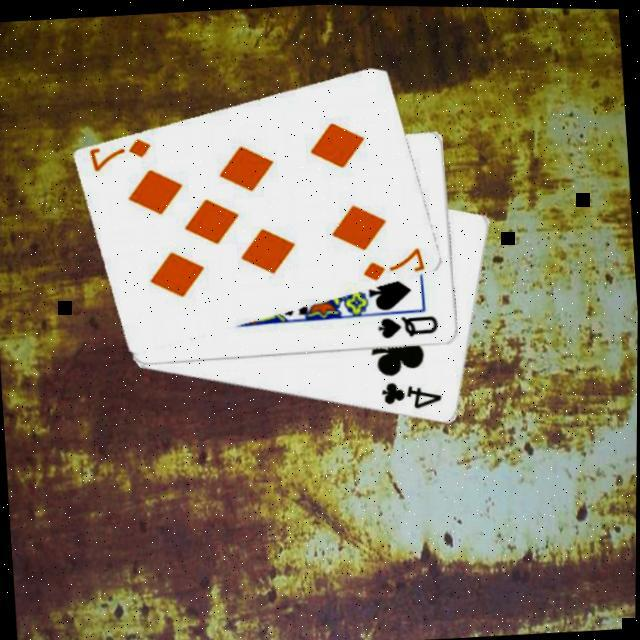4C: (376, 376, 444, 416)
7D: (358, 243, 428, 285), (86, 136, 156, 178)
QS: (374, 312, 442, 344)
